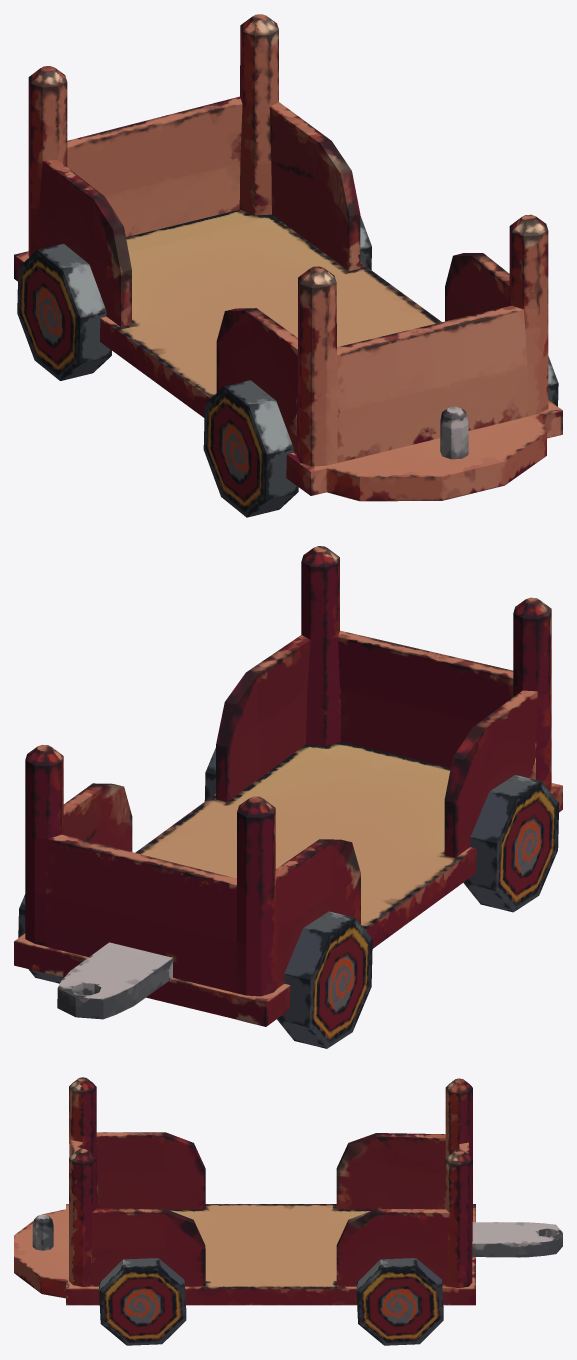
The model's file is TrainCart.fbx.
3 renders of one model, top to bottom at view 1: azimuth 30°, elevation 25°; view 2: azimuth 150°, elevation 25°; view 3: azimuth 270°, elevation 25°, orthographic. The views are drawn at different scales.
Parts seen in each view (by area): view 1: Train wagon, Wiel-Klein.002, Wiel-Klein.001; view 2: Train wagon, Wiel-Klein.002, Wiel-Klein.001; view 3: Train wagon, Wiel-Klein.002, Wiel-Klein.001.
Part boxes in pixels (x1,y1,x2,y2): Train wagon: [14, 14, 562, 501]; Wiel-Klein.002: [17, 215, 371, 380]; Wiel-Klein.001: [203, 356, 558, 517]; Train wagon: [14, 546, 562, 1026]; Wiel-Klein.002: [18, 894, 372, 1048]; Wiel-Klein.001: [204, 748, 559, 912]; Train wagon: [14, 1077, 562, 1305]; Wiel-Klein.002: [356, 1258, 443, 1345]; Wiel-Klein.001: [99, 1258, 186, 1345].
Size of the model in its own units: 258 by 221 by 609.
